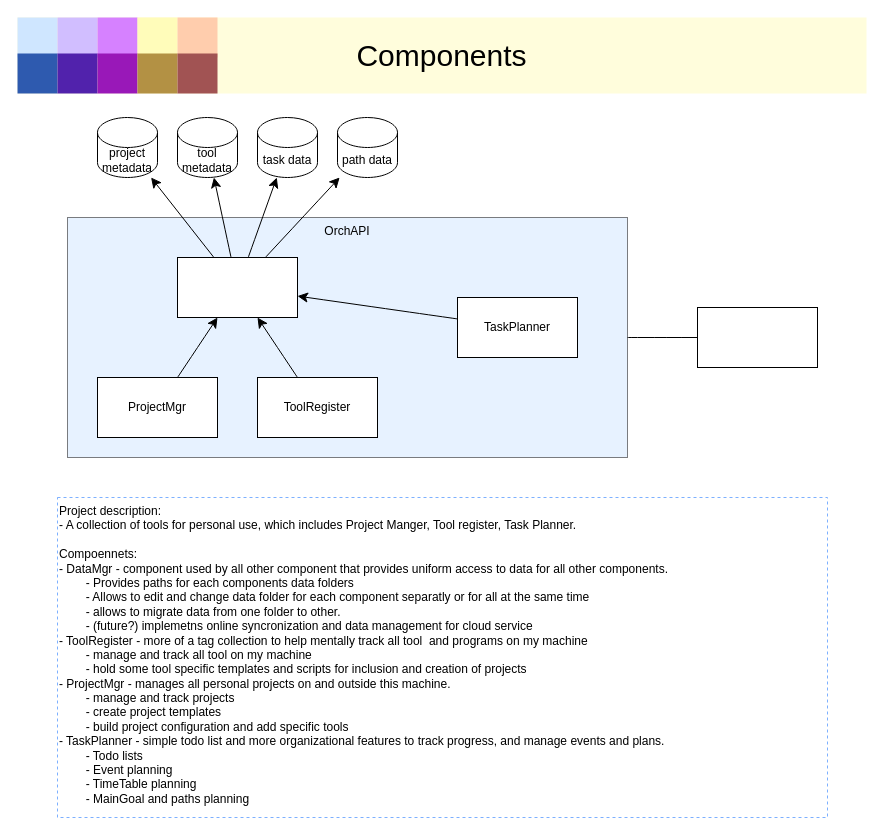
Some shapes in this 883 by 835 pixel diagram are drawn without their labels. Each missing label, with the centre of its shape:
"ConsoleInterface" belongs at pixel 757 337.
"DataMgr" belongs at pixel 237 287.
